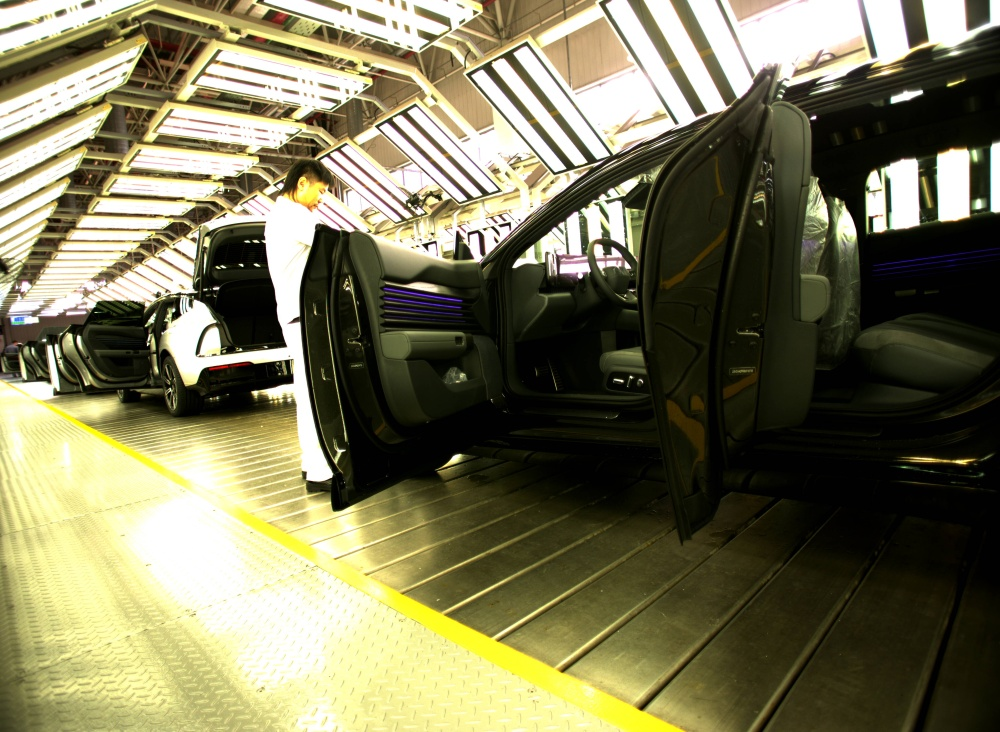armrest_color: (377, 329, 469, 361)
panel_color: (376, 275, 469, 332)
